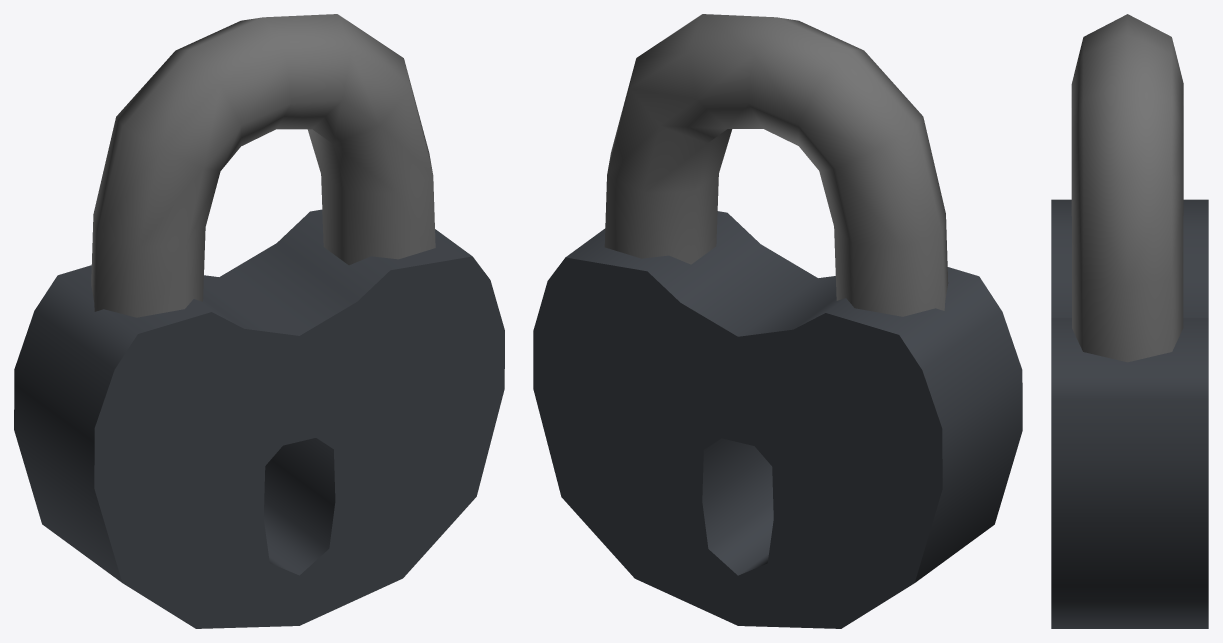
Rendered from Lock.fbx.
3 renders of one model, left to right at view 1: azimuth 30°, elevation 25°; view 2: azimuth 150°, elevation 25°; view 3: azimuth 270°, elevation 25°, orthographic. The views are drawn at different scales.
Visible parts, largest first — view 1: Lock; view 2: Lock; view 3: Lock.
Boxes of the visible parts, bbox=[...] form: Lock: bbox=[14, 14, 504, 628]; Lock: bbox=[533, 14, 1022, 628]; Lock: bbox=[1051, 14, 1208, 628].
Size of the model in its own units: 47.27 by 63.75 by 16.02.
